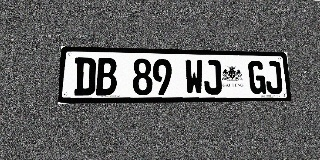8: (133, 58, 152, 95)
9: (153, 59, 172, 95)
B: (96, 58, 117, 95)
D: (74, 57, 96, 95)
G: (248, 61, 266, 94)
J: (203, 60, 222, 94), (264, 61, 283, 94)
W: (185, 59, 204, 95)
